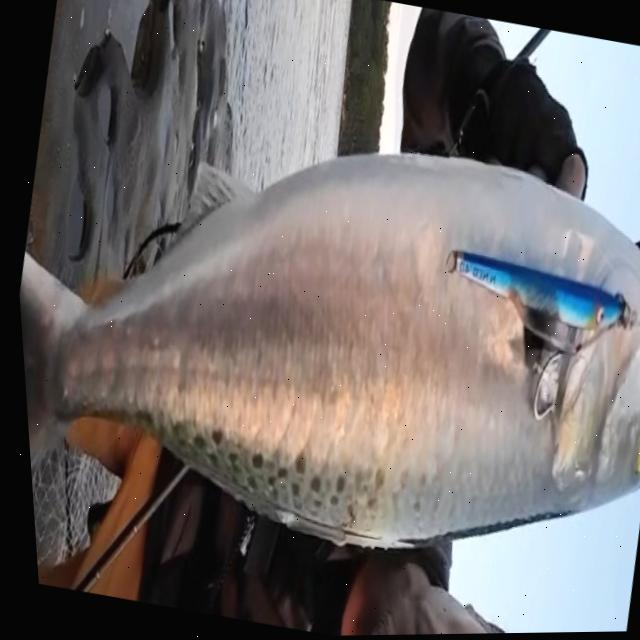Australian Salmon: (4, 70, 640, 640)
